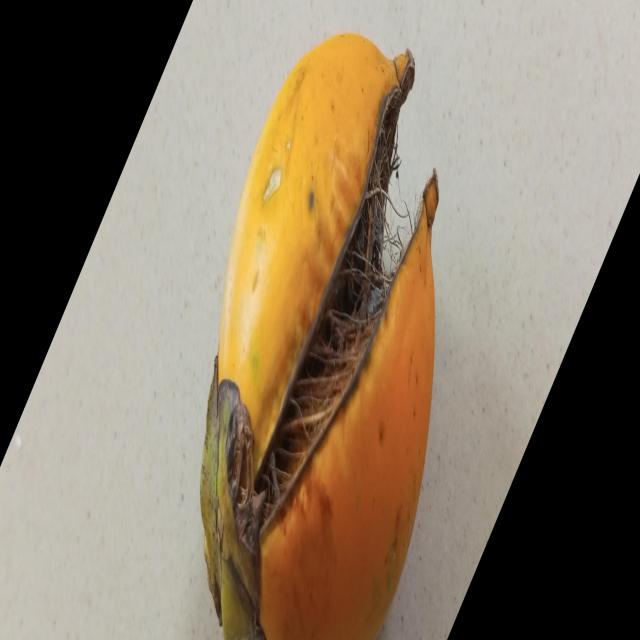damaged: (201, 34, 439, 640)
